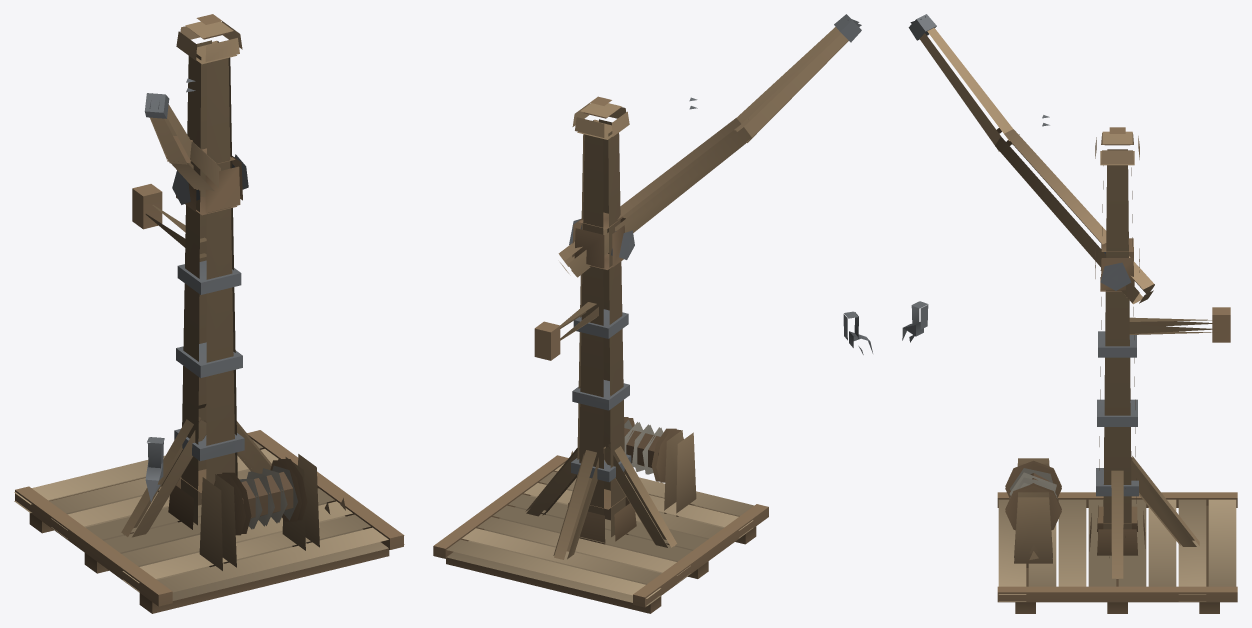
The model's file is crane.lod.glb.
3 renders of one model, left to right at view 1: azimuth 30°, elevation 25°; view 2: azimuth 150°, elevation 25°; view 3: azimuth 270°, elevation 25°, orthographic. The views are drawn at different scales.
Visible parts, largest first — view 1: crane; view 2: crane; view 3: crane.
Part boxes in pixels (x1,y1,x2,y2): crane: (14,14,404,613); crane: (433,14,872,613); crane: (902,14,1237,613).
Bounding box in the file's own units: 3.77 × 6.61 × 4.19.
